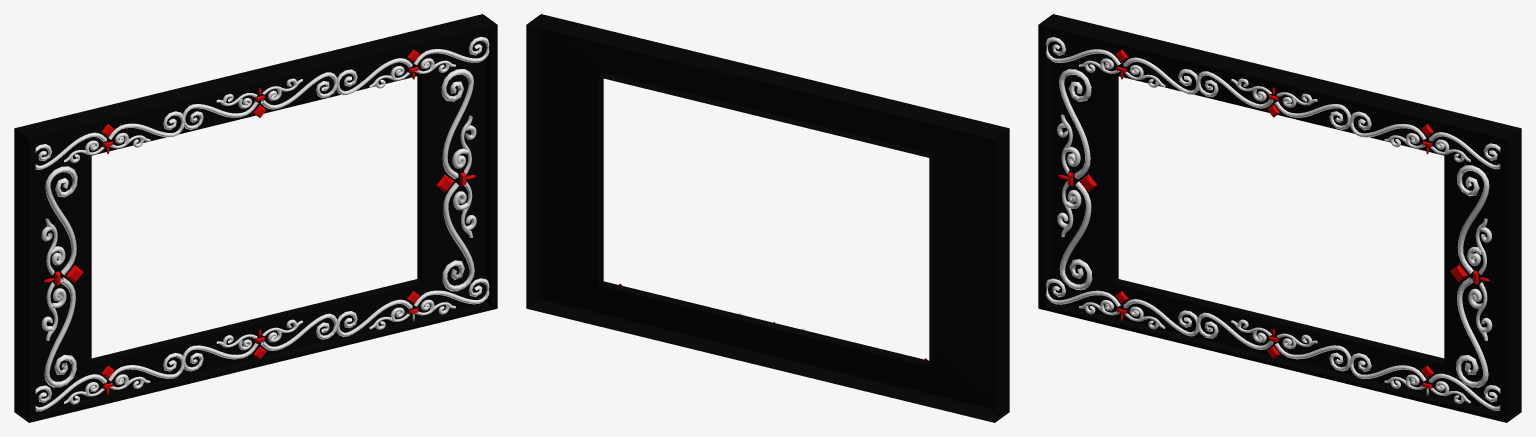
The model's file is Frame.fbx.
3 renders of one model, left to right at view 1: azimuth 30°, elevation 25°; view 2: azimuth 150°, elevation 25°; view 3: azimuth 330°, elevation 25°, orthographic.
Visible parts, largest first — view 1: revolvedSurface10; view 2: revolvedSurface10; view 3: revolvedSurface10.
Boxes of the visible parts, x1,y1,x2,y2 form: revolvedSurface10: (14, 14, 497, 422); revolvedSurface10: (526, 14, 1009, 422); revolvedSurface10: (1038, 14, 1521, 422).
Size of the model in its own units: 27.25 by 15.78 by 1.48.
